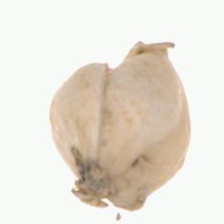L1: (87, 40, 177, 72), (67, 174, 139, 212)
L2: (49, 40, 191, 213)
